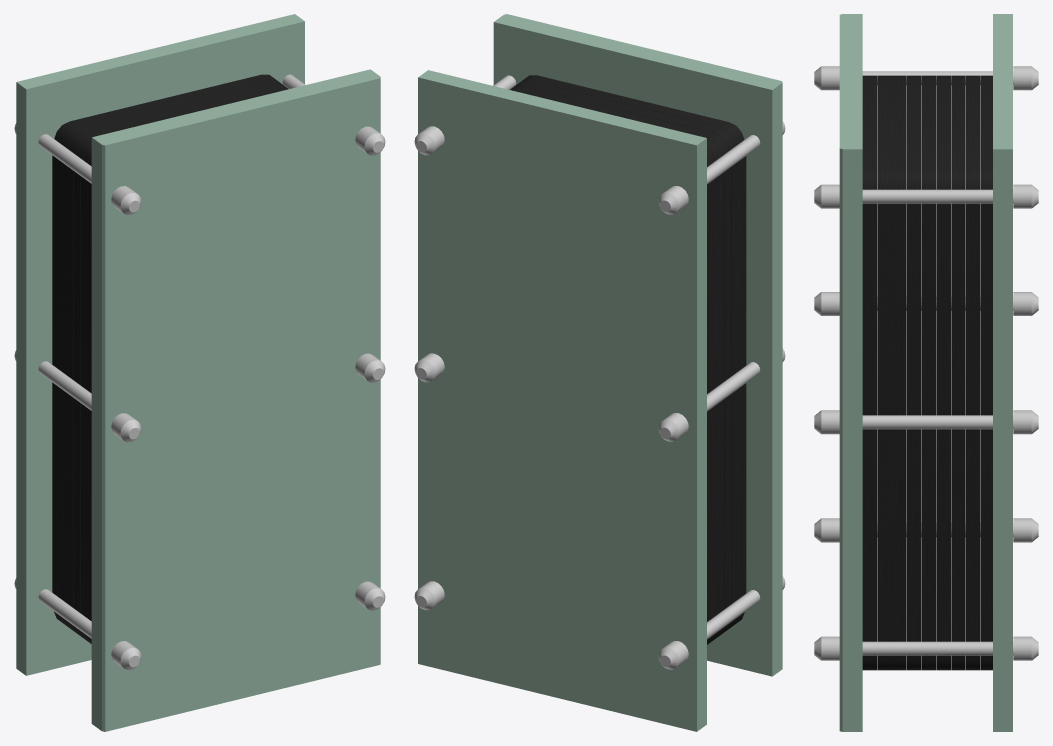
The model's file is JCW_Panel_base001.fbx.
3 renders of one model, left to right at view 1: azimuth 30°, elevation 25°; view 2: azimuth 150°, elevation 25°; view 3: azimuth 270°, elevation 25°, orthographic.
Parts seen in each view (by area): view 1: JCW_Panel_base001, JCWr_backplate, plateCooler_filterplate007, plateCooler_filterplate008, plateCooler_filterplate009, plateCooler_filterplate006, plateCooler_filterplate005, plateCooler_filterplate004, plateCooler_bolt003, plateCooler_bolt005, plateCooler_bolt004, plateCooler_bolt (+2 smaller); view 2: JCWr_backplate, JCW_Panel_base001, plateCooler_filterplate002, plateCooler_filterplate001, plateCooler_filterplate003, plateCooler_filterplate004, plateCooler_filterplate005, plateCooler_bolt003, plateCooler_bolt005, plateCooler_bolt004, plateCooler_filterplate006, plateCooler_bolt (+2 smaller); view 3: JCW_Panel_base001, JCWr_backplate, plateCooler_filterplate002, plateCooler_filterplate003, plateCooler_filterplate006, plateCooler_filterplate007, plateCooler_filterplate001, plateCooler_filterplate004, plateCooler_filterplate005, plateCooler_filterplate008, plateCooler_filterplate009, plateCooler_bolt002 (+5 smaller).
Part boxes in pixels (x1,y1,x2,y2): JCW_Panel_base001: [91, 69, 380, 731]; JCWr_backplate: [16, 14, 304, 675]; plateCooler_filterplate007: [66, 84, 288, 633]; plateCooler_filterplate008: [58, 79, 282, 628]; plateCooler_filterplate009: [52, 74, 274, 622]; plateCooler_filterplate006: [73, 90, 284, 638]; plateCooler_filterplate005: [81, 145, 91, 643]; plateCooler_filterplate004: [88, 162, 91, 641]; plateCooler_bolt003: [14, 123, 141, 214]; plateCooler_bolt005: [14, 578, 141, 669]; plateCooler_bolt004: [14, 350, 141, 442]; plateCooler_bolt: [282, 74, 385, 155]; JCWr_backplate: [418, 70, 706, 731]; JCW_Panel_base001: [493, 14, 782, 676]; plateCooler_filterplate002: [515, 80, 738, 629]; plateCooler_filterplate001: [523, 75, 746, 624]; plateCooler_filterplate003: [510, 86, 731, 635]; plateCooler_filterplate004: [707, 139, 723, 640]; plateCooler_filterplate005: [707, 148, 716, 644]; plateCooler_bolt003: [658, 121, 785, 214]; plateCooler_bolt005: [658, 576, 785, 669]; plateCooler_bolt004: [658, 348, 785, 441]; plateCooler_filterplate006: [707, 183, 709, 640]; plateCooler_bolt: [414, 75, 516, 155]; JCW_Panel_base001: [839, 14, 862, 731]; JCWr_backplate: [993, 14, 1012, 731]; plateCooler_filterplate002: [877, 75, 891, 670]; plateCooler_filterplate003: [892, 75, 906, 670]; plateCooler_filterplate006: [936, 75, 950, 670]; plateCooler_filterplate007: [951, 75, 965, 670]; plateCooler_filterplate001: [862, 75, 876, 670]; plateCooler_filterplate004: [907, 75, 921, 670]; plateCooler_filterplate005: [921, 75, 935, 670]; plateCooler_filterplate008: [966, 75, 980, 670]; plateCooler_filterplate009: [980, 75, 992, 670]; plateCooler_bolt002: [814, 636, 1038, 660].
Size of the model in its own units: 103 by 206 by 72.09.
